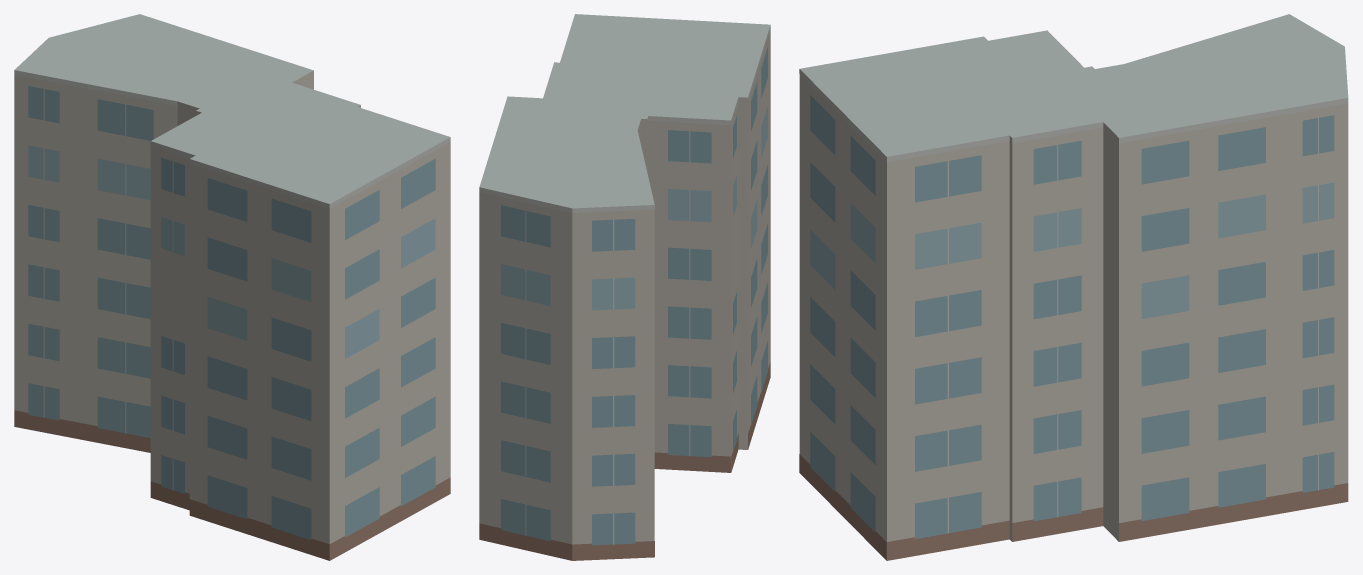
File: survey-upis-32956679.glb
3 views of the same model, side by side, from view 1: azimuth 30°, elevation 25°; view 2: azimuth 150°, elevation 25°; view 3: azimuth 270°, elevation 25° (orthographic). The views are drawn at different scales.
Parts seen in each view (by area): view 1: survey-upis-32956679.tmp; view 2: survey-upis-32956679.tmp; view 3: survey-upis-32956679.tmp.
Part boxes in pixels (x1,y1,x2,y2): survey-upis-32956679.tmp: (14, 14, 450, 560); survey-upis-32956679.tmp: (479, 14, 770, 560); survey-upis-32956679.tmp: (799, 14, 1348, 560).
Size of the model in its own units: 13.89 by 18.3 by 22.54.
